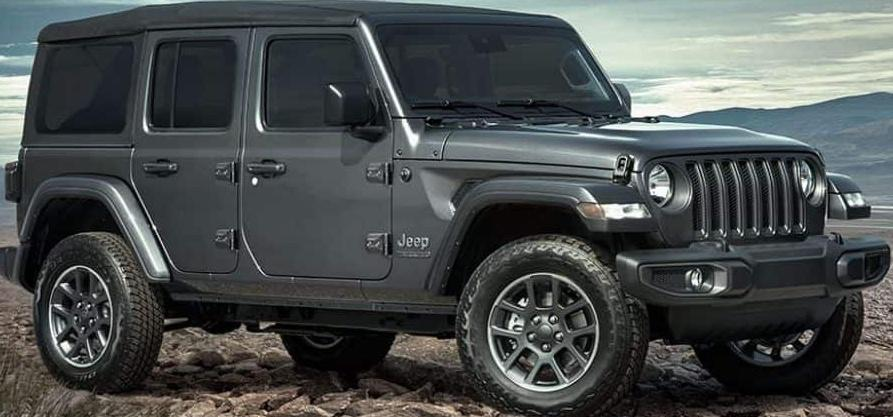SUV: (1, 4, 893, 416)
